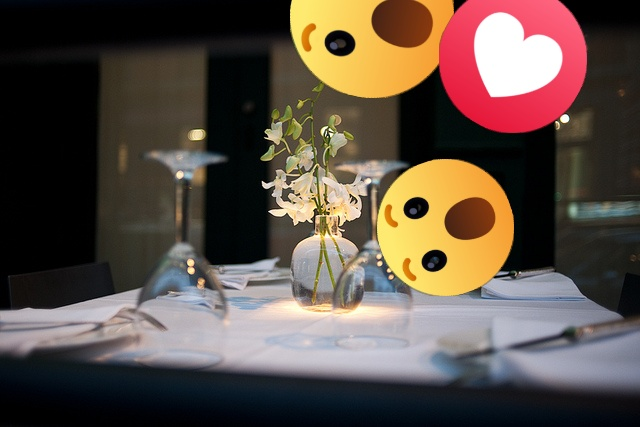love: (439, 0, 587, 133)
wow: (377, 159, 514, 296), (290, 0, 454, 98)
